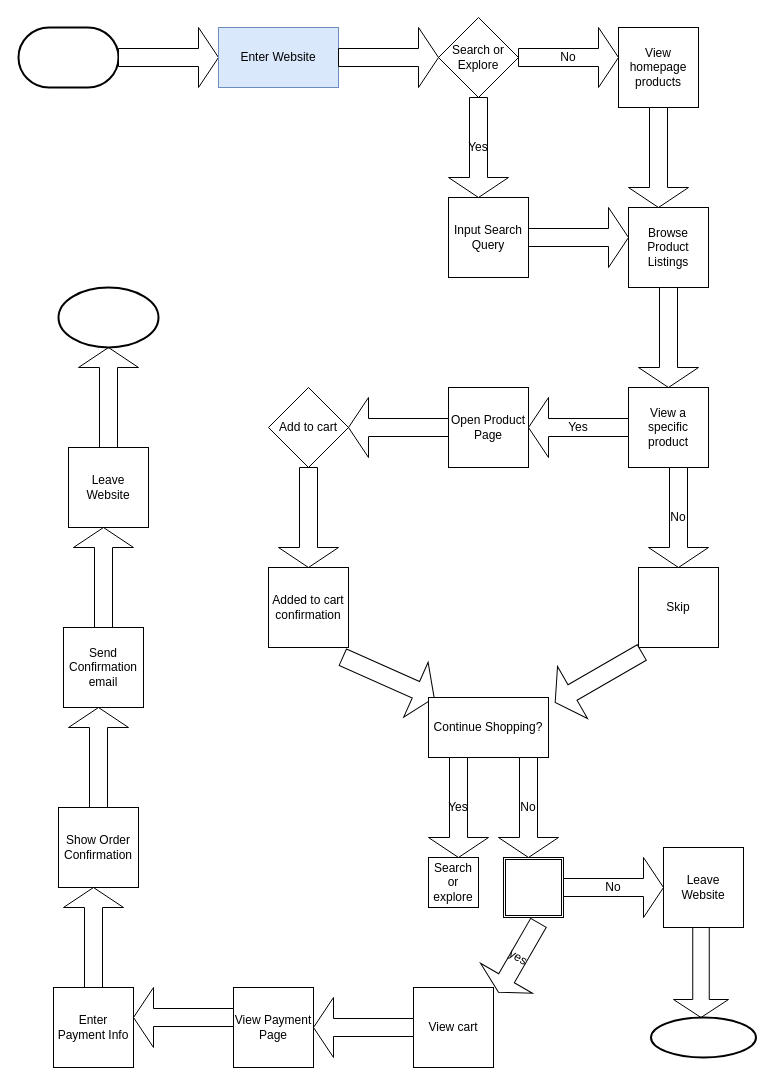
This 774x1085 diagram has some shape labels left out. Here are the shapes that lost their labels. From the top down, the centre of each, then its label:
At (x=68, y=57): "Start".
At (x=533, y=887): "Checkout?".
At (x=703, y=1037): "End".
